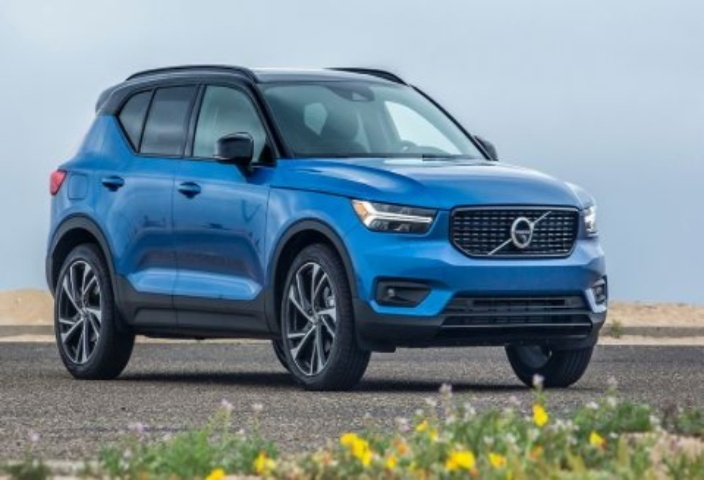camper: (11, 55, 621, 423)
